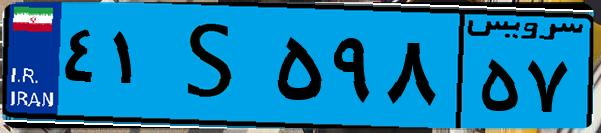1: (110, 28, 158, 98)
4: (57, 26, 110, 100)
5: (270, 28, 330, 110), (475, 38, 525, 113)
7: (525, 38, 570, 115)
8: (385, 28, 445, 110)
9: (330, 28, 385, 110)
S: (158, 12, 270, 120)
